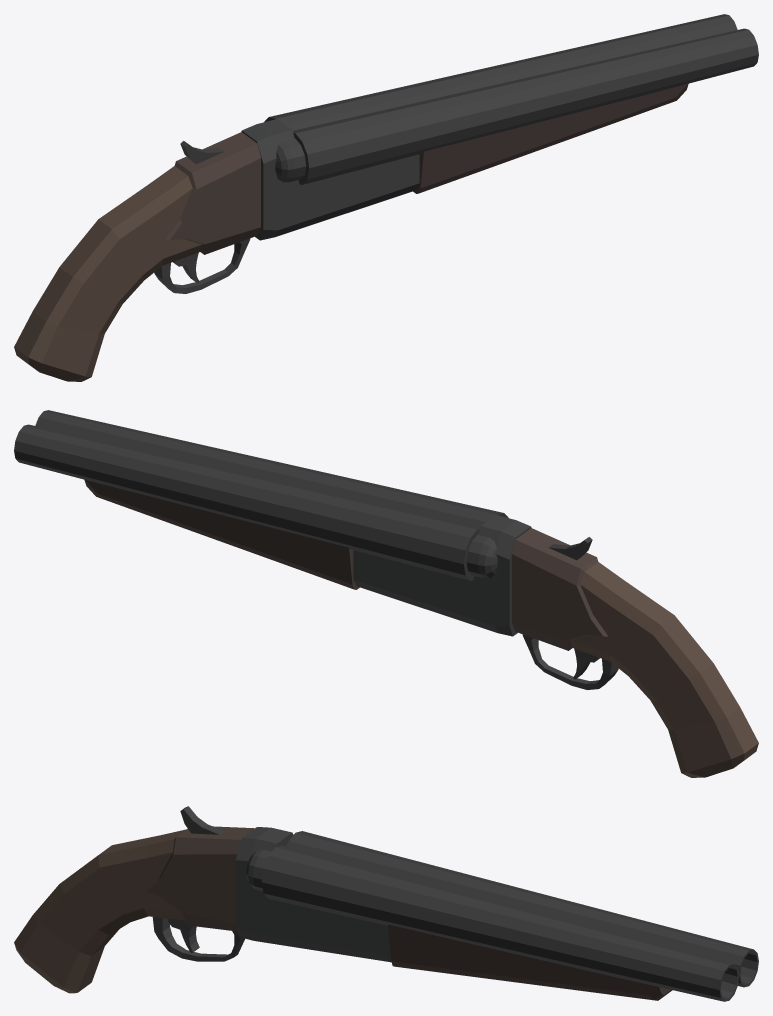
File: Shotgun_SawedOff.glb
3 views of the same model, one above another, from view 1: azimuth 30°, elevation 25°; view 2: azimuth 150°, elevation 25°; view 3: azimuth 330°, elevation 25° (orthographic).
Visible parts, largest first — view 1: Shotgun_SawedOff; view 2: Shotgun_SawedOff; view 3: Shotgun_SawedOff.
Boxes of the visible parts, left/top/right/bottom form: Shotgun_SawedOff: left=14, top=14, right=758, bottom=381; Shotgun_SawedOff: left=14, top=410, right=758, bottom=777; Shotgun_SawedOff: left=14, top=806, right=758, bottom=1001.
Bounding box in the file's own units: 3.69 × 1.02 × 0.4225.
